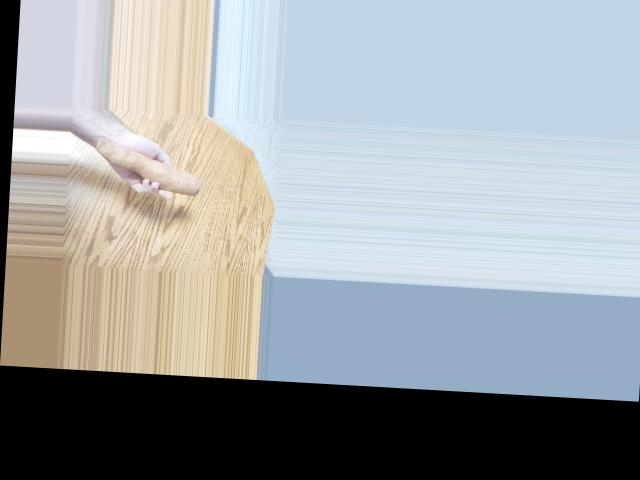sweet_potato: (92, 137, 205, 198)
